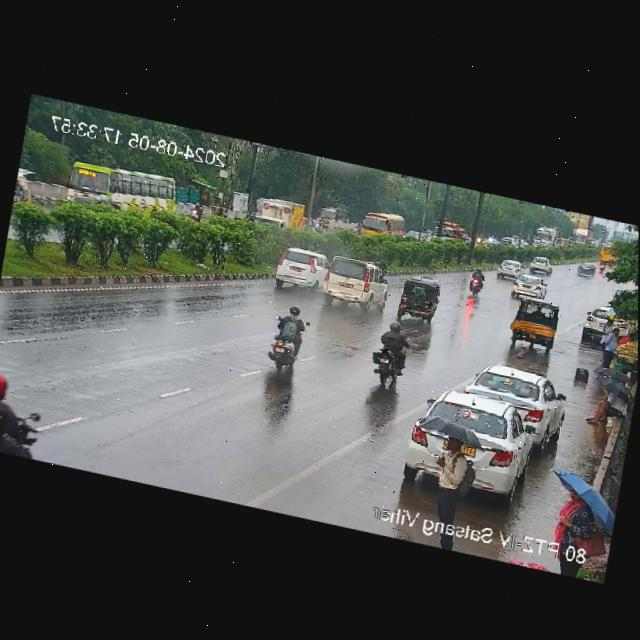bus: (57, 155, 175, 229), (353, 207, 406, 246), (534, 225, 558, 252)
car: (406, 384, 544, 488), (464, 360, 570, 442), (319, 254, 389, 317), (503, 294, 563, 352), (268, 245, 326, 296), (396, 275, 443, 324), (512, 274, 548, 300), (493, 257, 527, 283), (530, 254, 554, 276), (575, 261, 596, 279)
motorcycle: (0, 365, 56, 461), (260, 303, 315, 379), (371, 321, 420, 394), (461, 265, 489, 298), (189, 201, 203, 221)
person: (543, 482, 600, 576), (431, 434, 474, 524), (586, 387, 630, 436), (602, 323, 624, 372), (600, 317, 615, 348), (620, 330, 638, 345)
truck: (249, 191, 307, 236)
